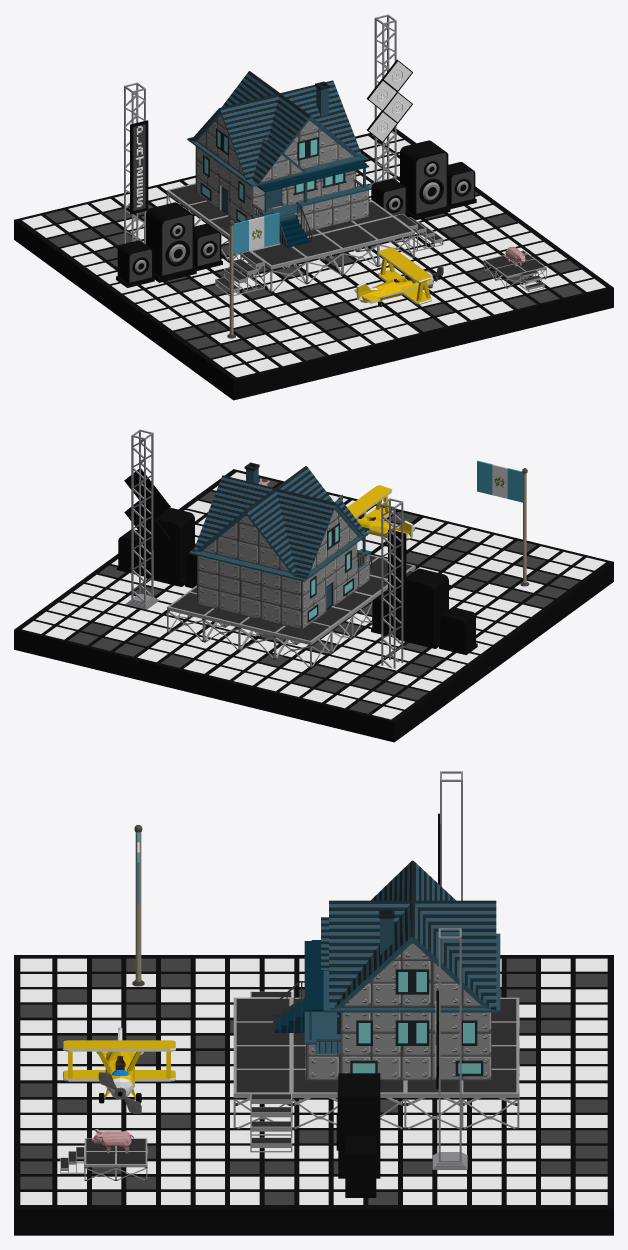
3 renders of one model, top to bottom at view 1: azimuth 30°, elevation 25°; view 2: azimuth 150°, elevation 25°; view 3: azimuth 270°, elevation 25°, orthographic. The views are drawn at different scales.
Visible parts, largest first — view 1: Cube.008, Cube.078, VEHICLES_AIRPLANE, OBJRANDOM_GUATEMALAN_FLAG; view 2: Cube.008, Cube.078, OBJRANDOM_GUATEMALAN_FLAG, VEHICLES_AIRPLANE; view 3: Cube.008, Cube.078, VEHICLES_AIRPLANE, OBJRANDOM_GUATEMALAN_FLAG, ANIMAL_CERDO.
Part boxes in pixels (box(x1,y1,x2,y2)): Cube.008: box(14, 14, 613, 400); Cube.078: box(187, 71, 371, 248); VEHICLES_AIRPLANE: box(354, 247, 443, 306); OBJRANDOM_GUATEMALAN_FLAG: box(227, 212, 279, 338); Cube.008: box(14, 429, 613, 742); Cube.078: box(189, 462, 372, 629); OBJRANDOM_GUATEMALAN_FLAG: box(477, 460, 529, 586); VEHICLES_AIRPLANE: box(337, 485, 415, 544); Cube.008: box(14, 771, 613, 1235); Cube.078: box(272, 860, 500, 1080); VEHICLES_AIRPLANE: box(63, 1027, 175, 1114); OBJRANDOM_GUATEMALAN_FLAG: box(132, 825, 144, 986); ANIMAL_CERDO: box(92, 1129, 133, 1153).
Bounding box in the file's own units: 4000 × 1975 × 4000.
44 materials, 3 textured.
